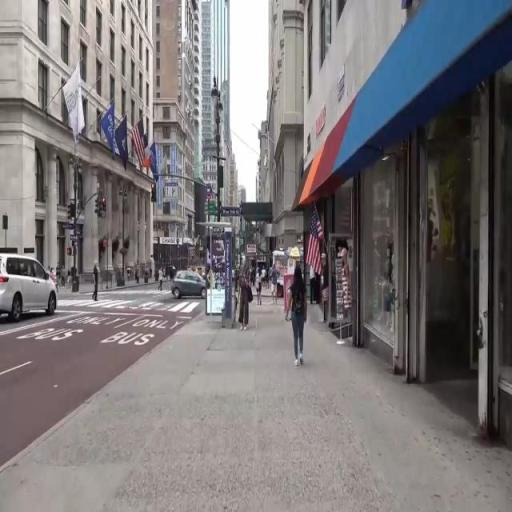person: (290, 269, 310, 368), (239, 267, 252, 331), (271, 265, 280, 307), (312, 260, 319, 306), (256, 269, 262, 308), (95, 261, 100, 303), (160, 269, 166, 294), (57, 263, 62, 282), (263, 264, 267, 287), (63, 266, 66, 287), (69, 269, 72, 289)
